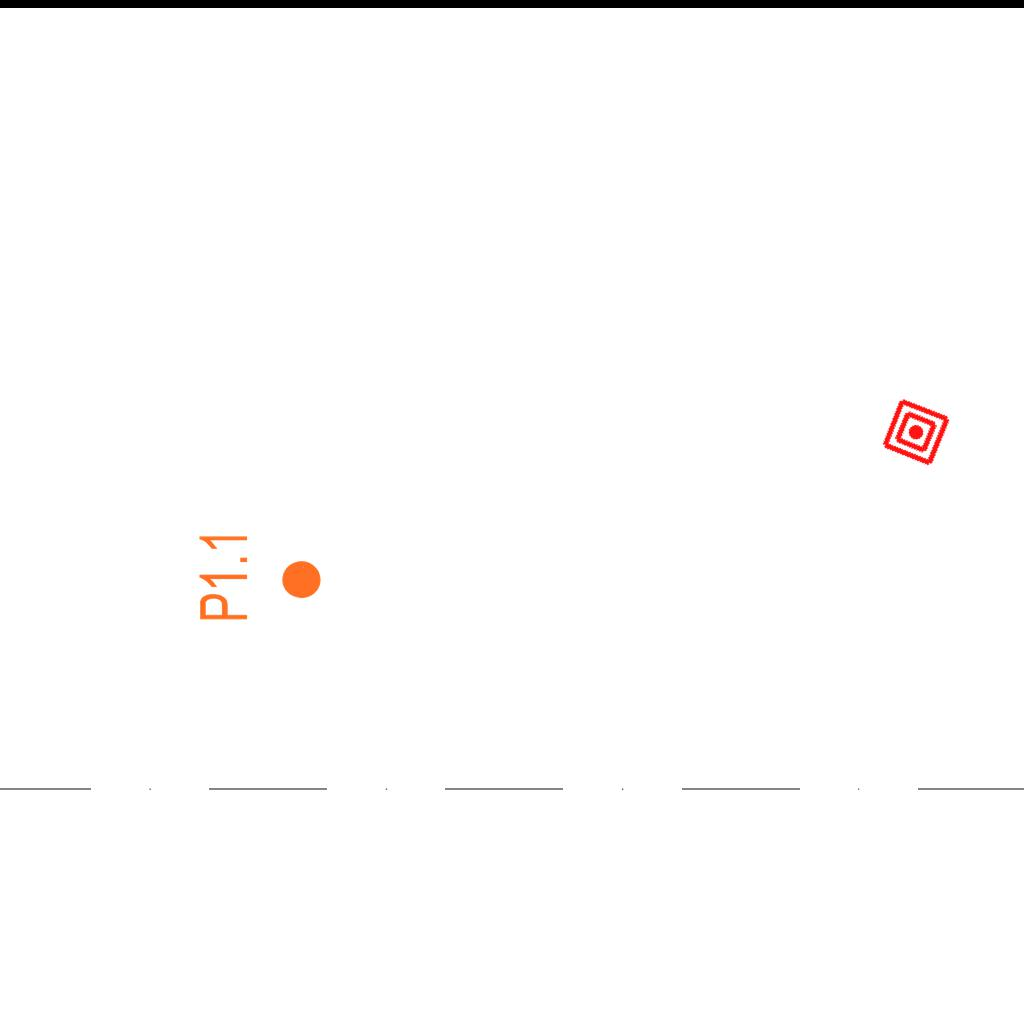Downlight_LED_Einbauleuchten_Flur: (196, 530, 324, 623)
NAM-Nichtautomatischer_Melder: (879, 395, 953, 469)
